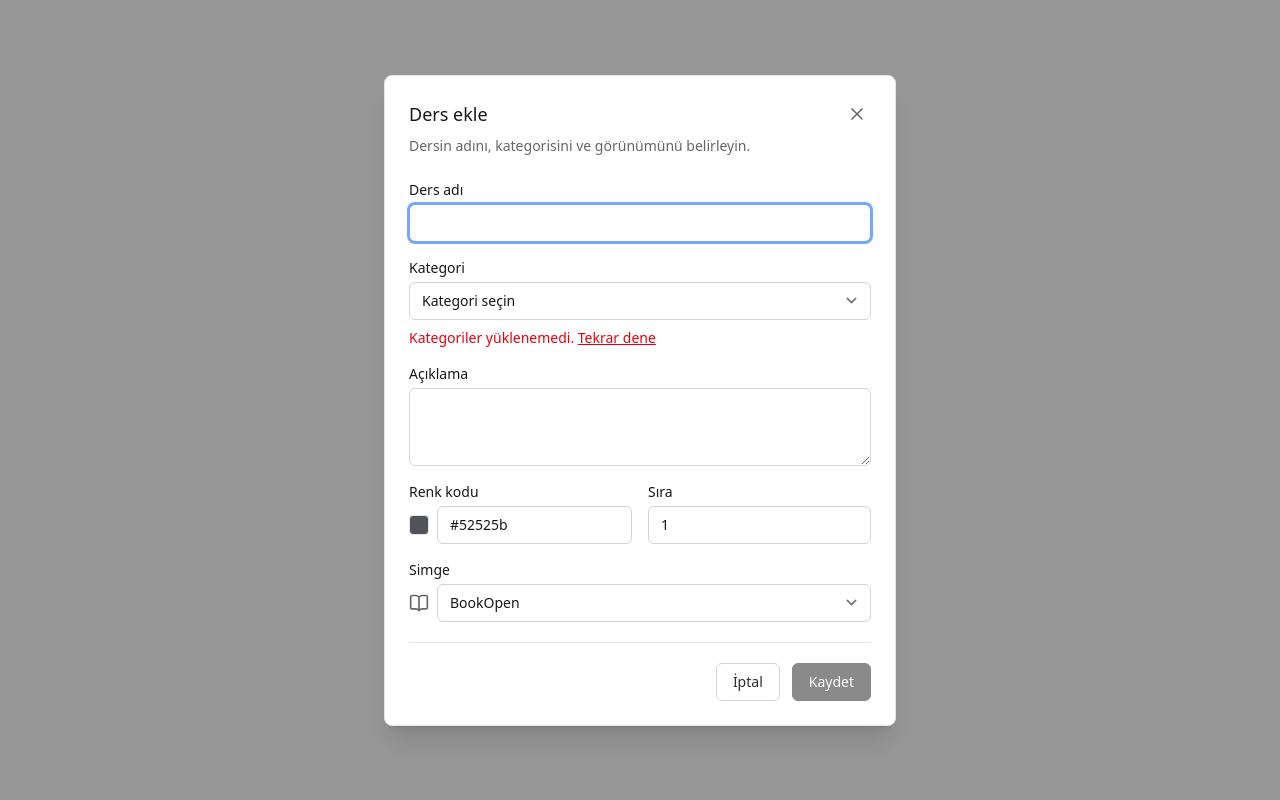
Test: keeps categories failures visible, disables writes and offers a read retry
Expected: the message "Kategoriler yüklenemedi. Tekrar dene" is shown, left=409, top=328, right=656, bottom=348
Expected: the button "Kaydet" is disabled, left=792, top=662, right=871, bottom=700
Click the button "Tekrar dene". click: (617, 338)
box: left=578, top=328, right=656, bottom=348
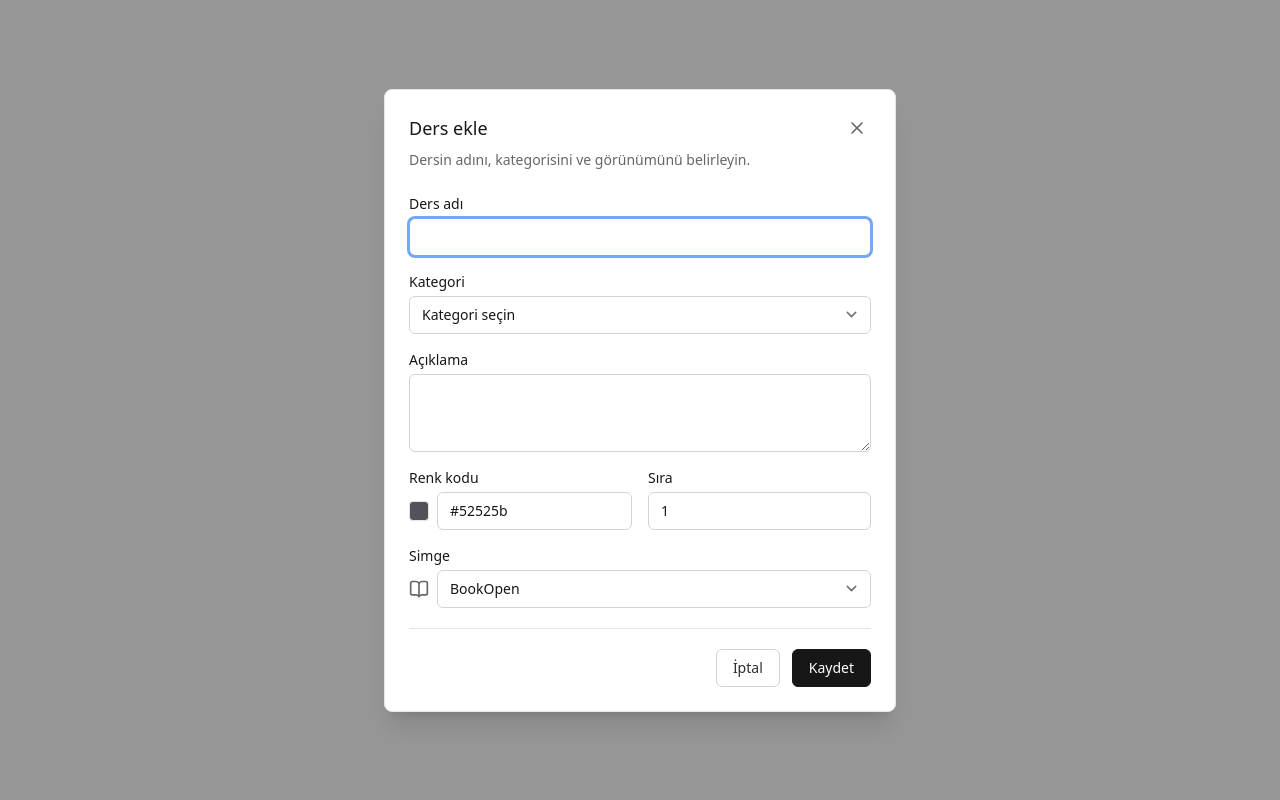
Now the button "Kaydet" is enabled, box left=792, top=648, right=871, bottom=686
